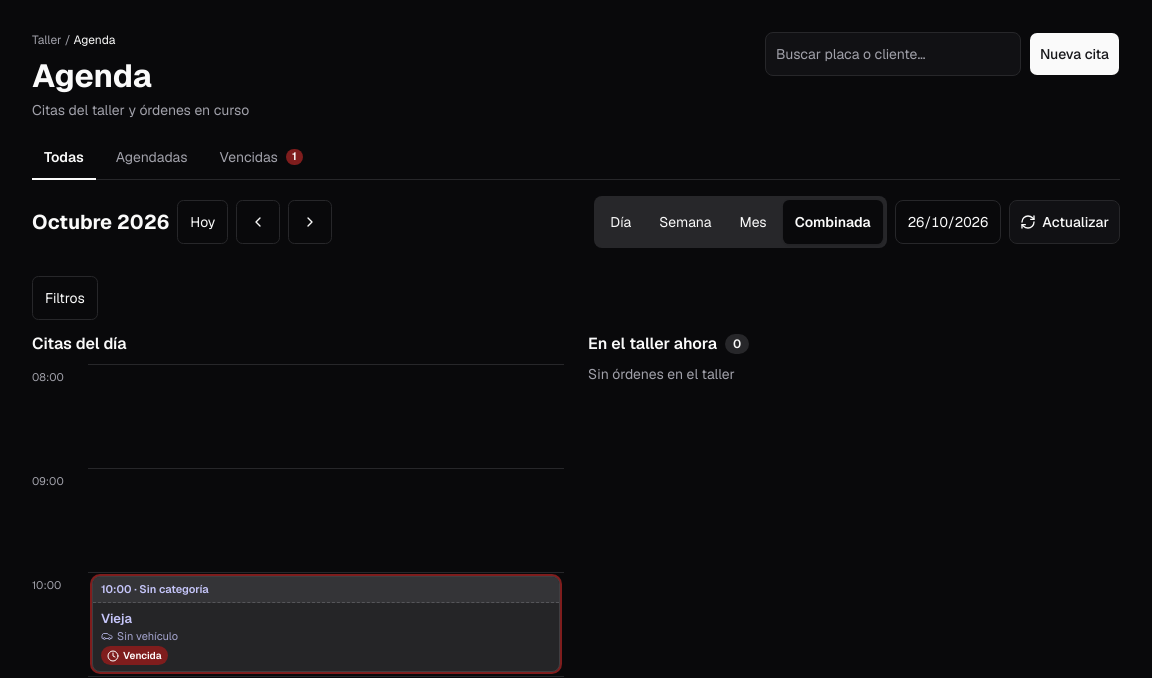
Scenario: AgendaPage Vencidas and combined › Every Vencida stays actionable on combined: from the Vencidas tab, and from the grid after a card is selected
Expected: the button "Reprogramar" is not shown
What coordinates should you click on to do the following:
click the button "10:00 · Sin categoría Vieja Sin vehículo Vencida"
I would click on:
 (326, 590)
Its box is [92,576,560,672].
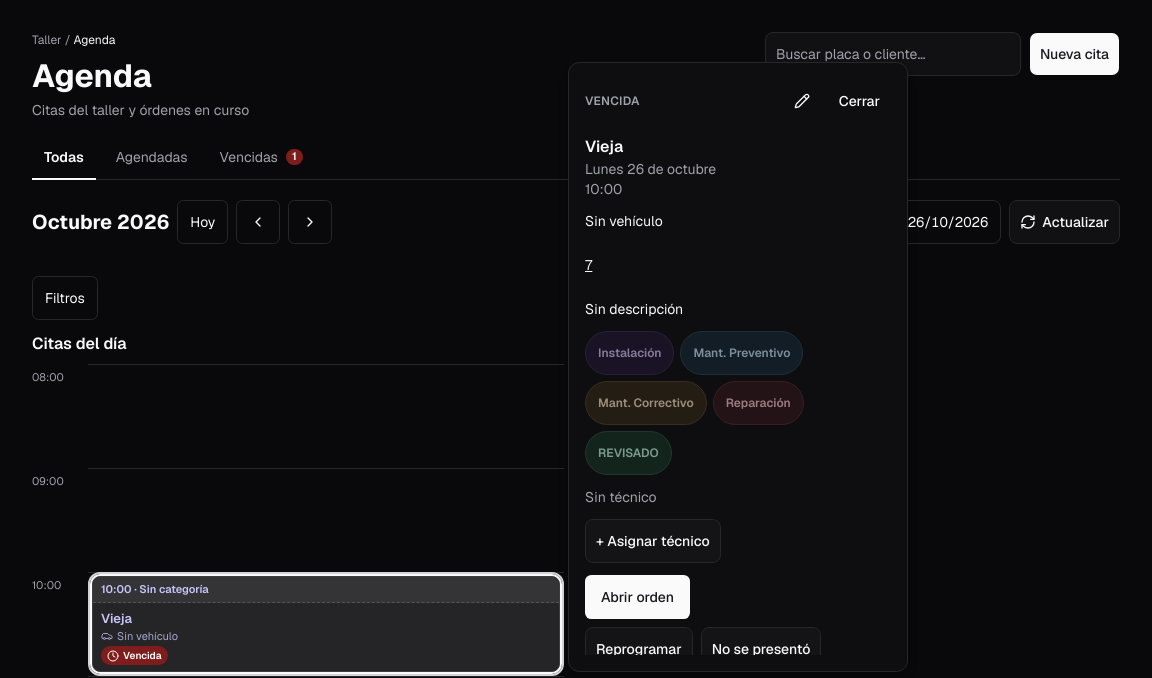
Result: the button "Reprogramar" is shown at [585,627,693,655]
Result: the button "No se presentó" is shown at [701,627,822,655]
// `hidden`: the open sheet marks the page behind it aria-hidden.
What coordinates should you click on to do the following:
click the tab "Vencidas 1"
I would click on:
 (261, 158)
Its box is [208,136,314,180].
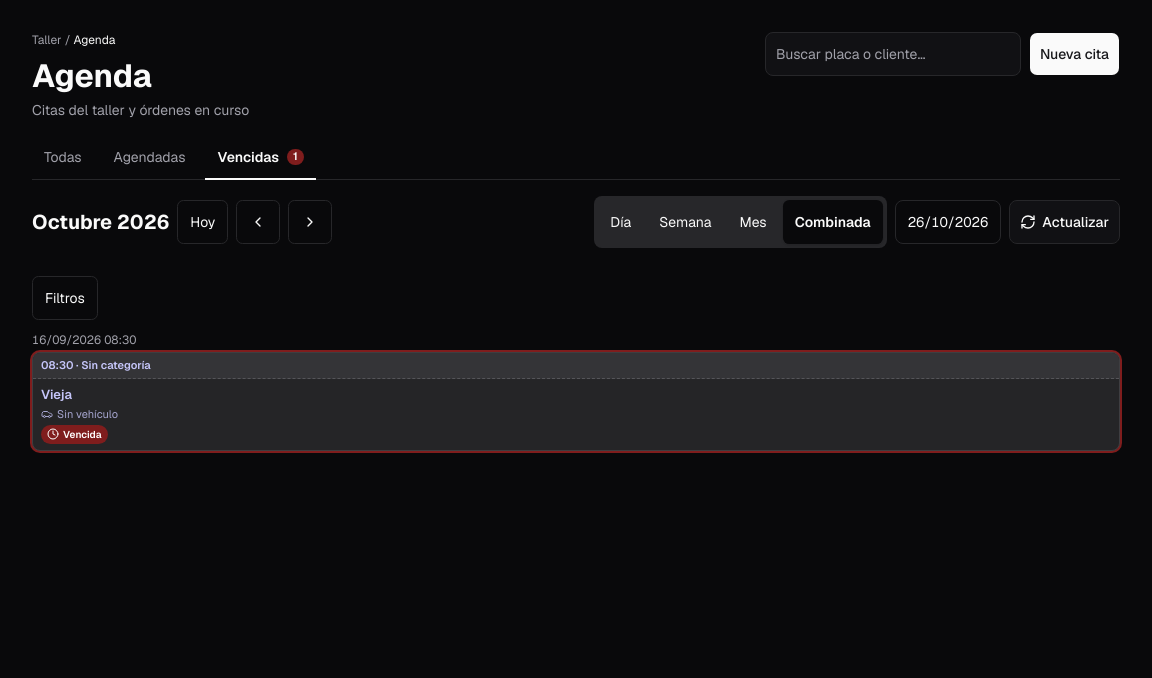
What coordinates should you click on to do the following:
click the button "08:30 · Sin categoría Vieja Sin vehículo Vencida"
I would click on:
 (576, 366)
Its box is [32,352,1120,450].
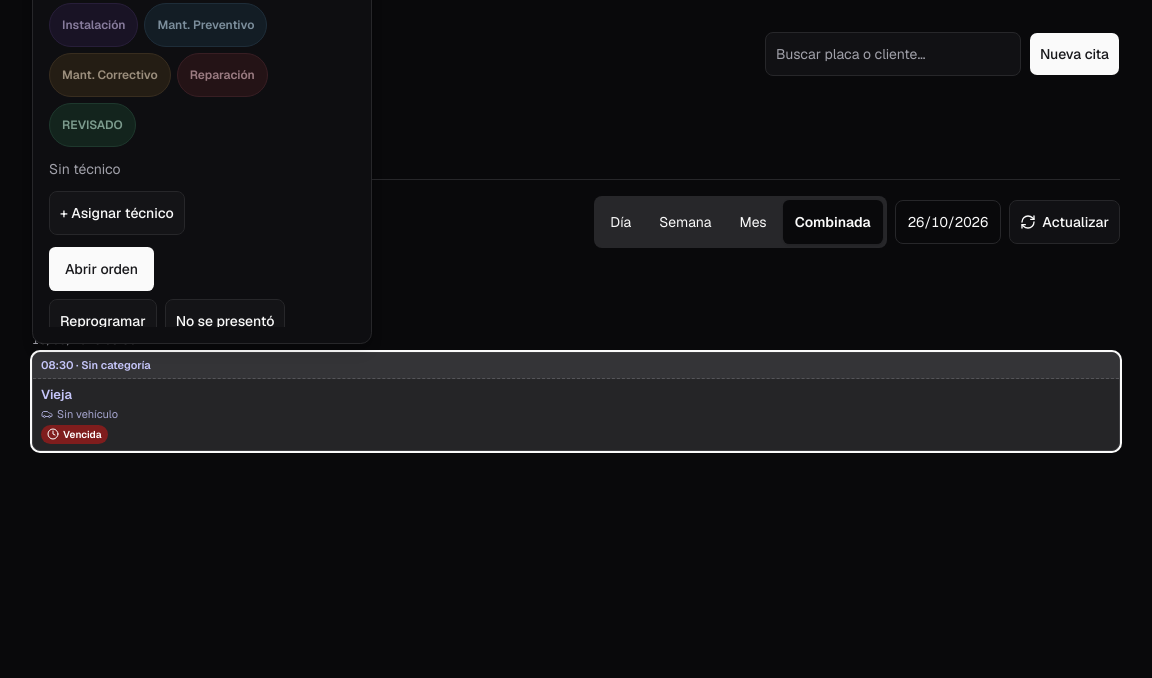
Result: the button "No se presentó" is shown at [165,299,286,327]
